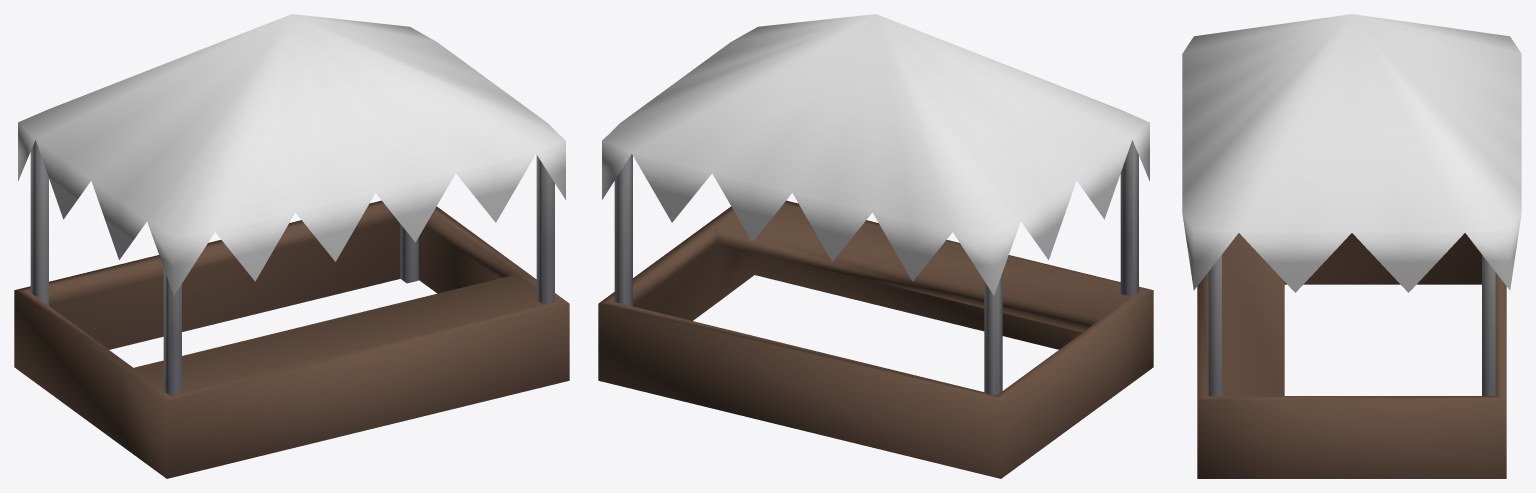
The model's file is Standbooth.fbx.
The picture shows the model from 3 angles, left to right: view 1: azimuth 30°, elevation 25°; view 2: azimuth 150°, elevation 25°; view 3: azimuth 270°, elevation 25°; orthographic projection.
Parts seen in each view (by area): view 1: roof, Stand, Poles; view 2: roof, Stand, Poles; view 3: roof, Stand, Poles.
Part boxes in pixels (x1,y1,x2,y2): roof: (18, 14, 565, 295); Stand: (14, 200, 569, 478); Poles: (30, 140, 554, 395); roof: (602, 14, 1149, 295); Stand: (598, 200, 1153, 478); Poles: (614, 140, 1138, 395); roof: (1182, 14, 1521, 292); Stand: (1197, 233, 1506, 478); Poles: (1208, 255, 1495, 396).
Bounding box in the file's own units: 8.73 × 6.28 × 7.46.
Materials: 1 (1 with a texture image).
